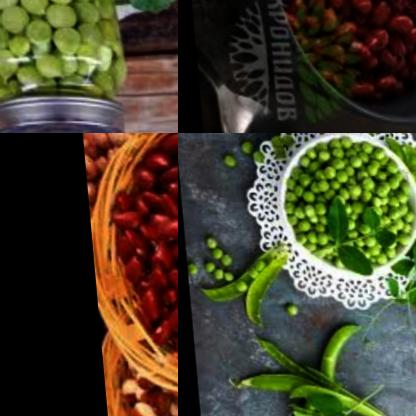fasol: (98, 133, 178, 372), (257, 0, 416, 99), (72, 133, 178, 200), (98, 343, 178, 416)
peas: (281, 135, 416, 260), (224, 329, 406, 416), (0, 0, 106, 101), (191, 245, 293, 323), (182, 237, 244, 289), (214, 141, 281, 166), (275, 294, 307, 322)
